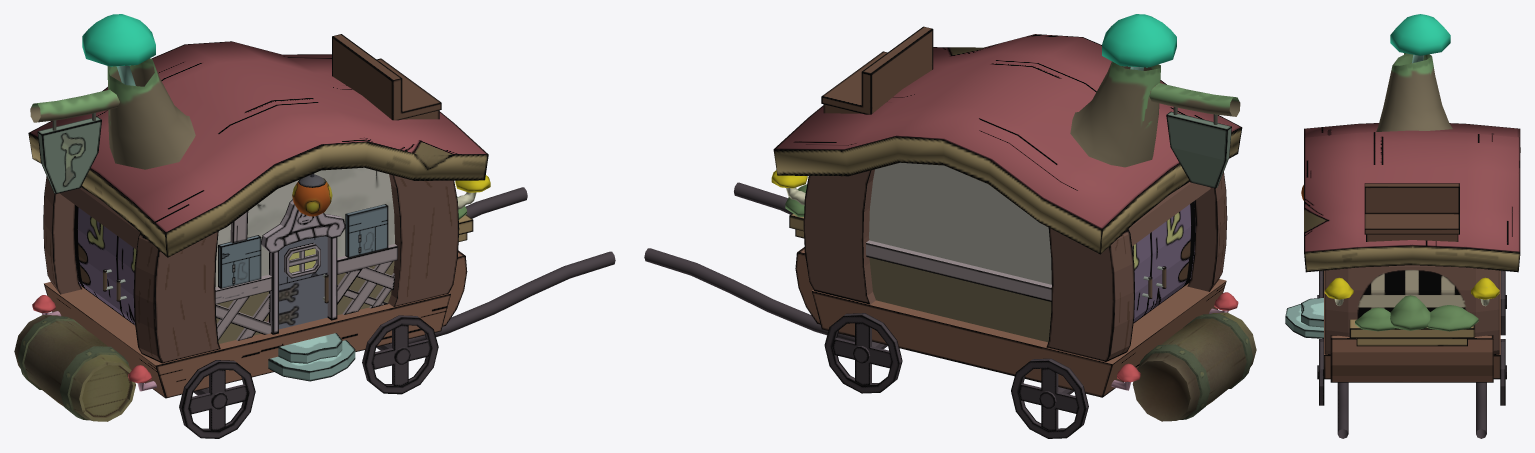
File: Wagon.glb
3 views of the same model, side by side, from view 1: azimuth 30°, elevation 25°; view 2: azimuth 150°, elevation 25°; view 3: azimuth 270°, elevation 25° (orthographic). The views are drawn at different scales.
Visible parts, largest first — view 1: Fwagon; view 2: Fwagon; view 3: Fwagon.
Part boxes in pixels (x1,y1,x2,y2): Fwagon: [14, 14, 615, 438]; Fwagon: [644, 14, 1256, 438]; Fwagon: [1285, 14, 1520, 438].
Size of the model in its own units: 4.37 by 3.01 by 2.12.
1 material, 1 textured.
